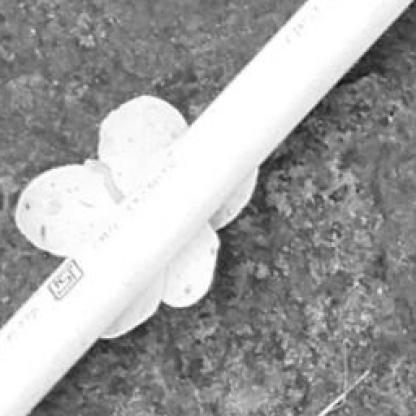PVC: (3, 0, 414, 414)
